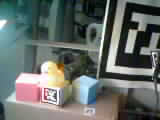duck: (29, 52, 62, 83)
